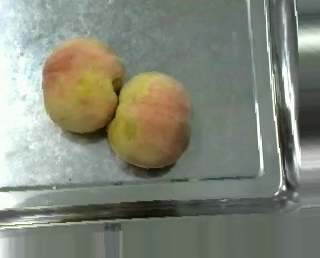Peach: (109, 70, 192, 169), (41, 36, 123, 134)
